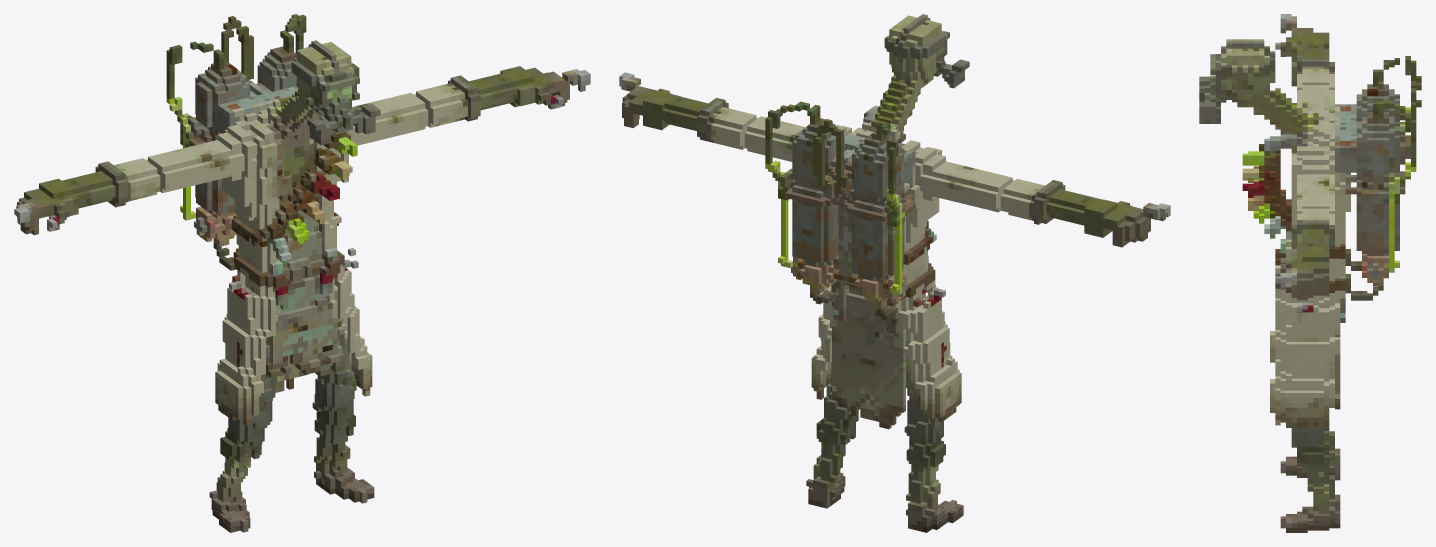
File: green-alchemist.rigged.glb
3 renders of one model, left to right at view 1: azimuth 30°, elevation 25°; view 2: azimuth 150°, elevation 25°; view 3: azimuth 270°, elevation 25°, orthographic. The views are drawn at different scales.
Parts seen in each view (by area): view 1: torso, hips, head, armR_upper, armR_fore, armL_fore, armL_upper, footL, footR, legR_thigh, legL_thigh, legL_shin (+1 smaller); view 2: torso, hips, armR_upper, armR_fore, head, armL_fore, armL_upper, footR, legR_thigh, legL_thigh, legR_shin, footL (+1 smaller); view 3: torso, hips, head, armL_fore, armL_upper, armR_fore, armR_upper, footL, legL_thigh, legL_shin, footR, legR_shin.
Boxes of the visible parts, box(x1,y1,x2,y2) form: torso: box(166, 14, 359, 343); hips: box(215, 293, 372, 432); head: box(291, 40, 380, 145); armR_upper: box(114, 122, 248, 201); armR_fore: box(14, 161, 130, 235); armL_fore: box(448, 66, 590, 121); armL_upper: box(346, 80, 464, 145); footL: box(314, 462, 374, 503); footR: box(209, 482, 250, 532); legR_thigh: box(220, 423, 264, 463); legL_thigh: box(312, 400, 355, 439); legL_shin: box(314, 434, 350, 470); torso: box(765, 82, 949, 348); hips: box(811, 303, 961, 434); armR_upper: box(907, 148, 1044, 220); armR_fore: box(1034, 180, 1170, 247); head: box(884, 14, 969, 92); armL_fore: box(619, 72, 728, 141); armL_upper: box(706, 107, 846, 161); footR: box(906, 500, 963, 532); legR_thigh: box(904, 426, 945, 467); legL_thigh: box(816, 408, 858, 448); legR_shin: box(906, 464, 940, 509); footL: box(806, 472, 845, 508); torso: box(1242, 56, 1421, 348); hips: box(1270, 293, 1340, 437); head: box(1199, 39, 1280, 123); armL_fore: box(1275, 220, 1334, 300); armL_upper: box(1291, 157, 1367, 224); armR_fore: box(1275, 14, 1334, 86); armR_upper: box(1297, 66, 1334, 115); footL: box(1280, 494, 1340, 532); legL_thigh: box(1291, 435, 1329, 471); legL_shin: box(1307, 467, 1334, 508); footR: box(1280, 448, 1340, 480); legR_shin: box(1324, 423, 1334, 460).
Size of the model in its own units: 2 by 1.62 by 0.713.
